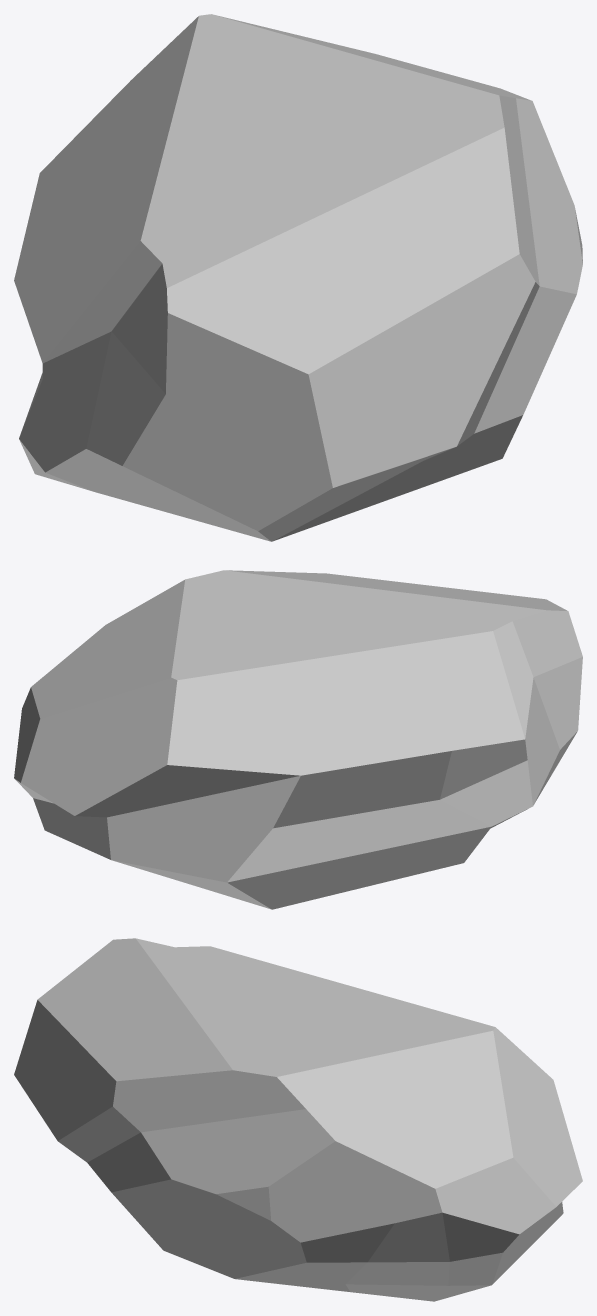
The model's file is Rock 3.fbx.
3 renders of one model, top to bottom at view 1: azimuth 30°, elevation 25°; view 2: azimuth 150°, elevation 25°; view 3: azimuth 270°, elevation 25°, orthographic. The views are drawn at different scales.
Parts seen in each view (by area): view 1: Rock.019; view 2: Rock.019; view 3: Rock.019.
Part boxes in pixels (x1,y1,x2,y2): Rock.019: (14,14,582,541); Rock.019: (14,570,582,909); Rock.019: (14,938,582,1301).
Bounding box in the file's own units: 318 × 165 × 369.
